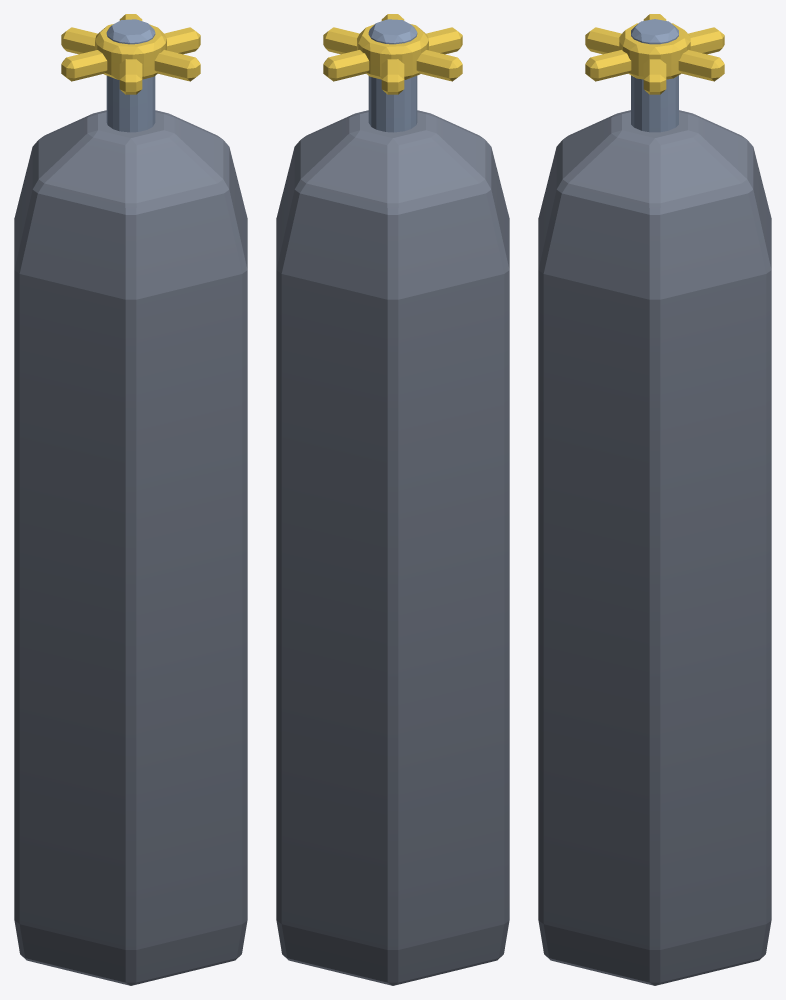
The model's file is gas_cylinder.glb.
The picture shows the model from 3 angles, left to right: view 1: azimuth 30°, elevation 25°; view 2: azimuth 150°, elevation 25°; view 3: azimuth 270°, elevation 25°; orthographic projection.
Visible parts, largest first — view 1: gas_cylinder-convcol; view 2: gas_cylinder-convcol; view 3: gas_cylinder-convcol.
Boxes of the visible parts, left/top/right/bottom form: gas_cylinder-convcol: left=14, top=14, right=247, bottom=985; gas_cylinder-convcol: left=276, top=14, right=509, bottom=985; gas_cylinder-convcol: left=538, top=14, right=771, bottom=985.
Bounding box in the file's own units: 0.352 × 1.34 × 0.3118.
1 material, 1 textured.
